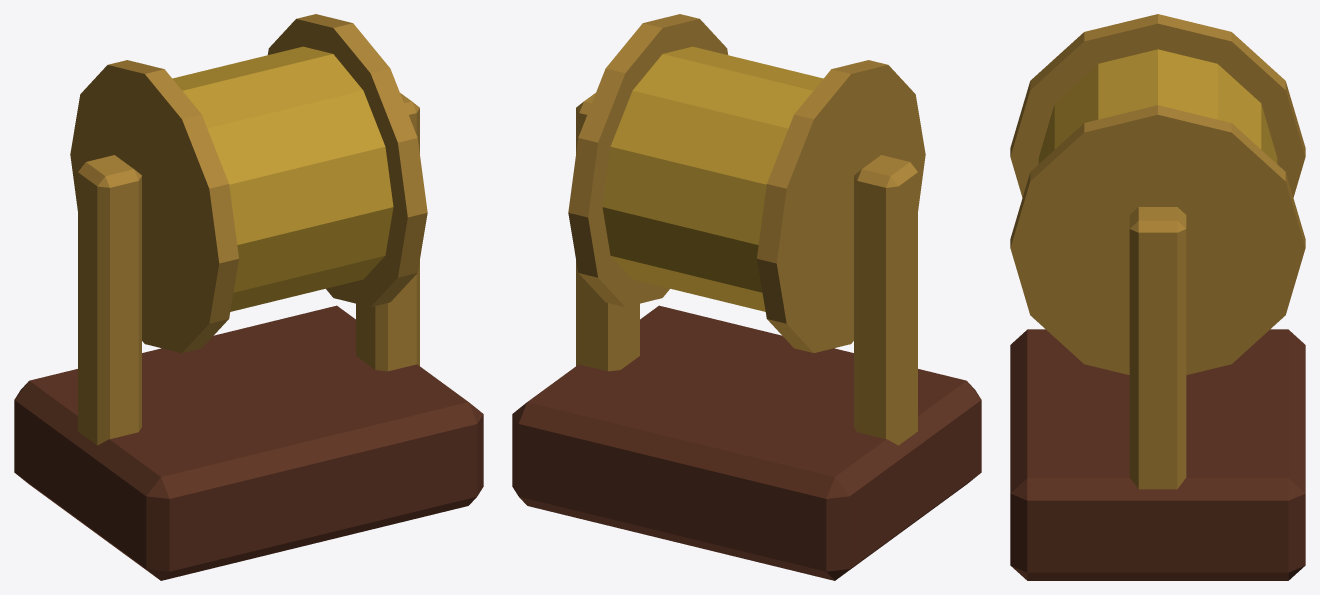
Rendered from spool.glb.
3 renders of one model, left to right at view 1: azimuth 30°, elevation 25°; view 2: azimuth 150°, elevation 25°; view 3: azimuth 270°, elevation 25°, orthographic.
Parts seen in each view (by area): view 1: Body_mesh, Reel_mesh; view 2: Body_mesh, Reel_mesh; view 3: Reel_mesh, Body_mesh.
Boxes of the visible parts, x1,y1,x2,y2 form: Body_mesh: [14, 93, 483, 580]; Reel_mesh: [70, 14, 427, 352]; Body_mesh: [512, 93, 981, 580]; Reel_mesh: [568, 14, 925, 352]; Reel_mesh: [1010, 14, 1305, 374]; Body_mesh: [1010, 207, 1305, 580].
Size of the model in its own units: 0.34 by 0.43 by 0.26.
